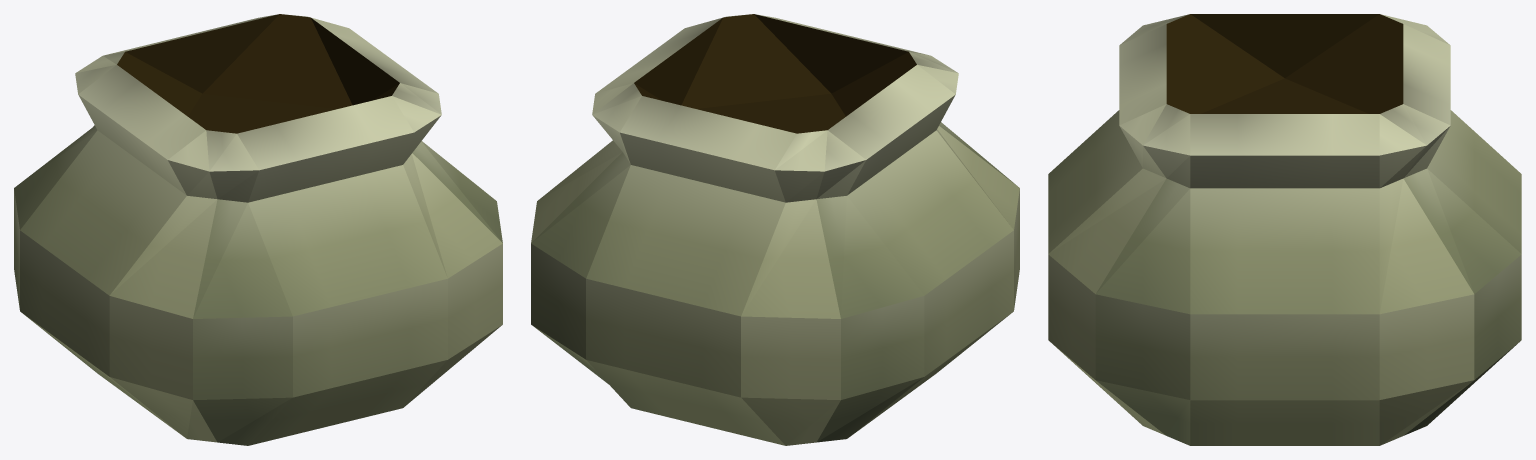
The model's file is pot.obj.
3 views of the same model, side by side, from view 1: azimuth 30°, elevation 25°; view 2: azimuth 150°, elevation 25°; view 3: azimuth 270°, elevation 25° (orthographic). The views are drawn at different scales.
Parts seen in each view (by area): view 1: Default; view 2: Default; view 3: Default.
Part boxes in pixels (bbox=[...]): Default: bbox=[14, 14, 502, 445]; Default: bbox=[531, 14, 1019, 445]; Default: bbox=[1048, 14, 1521, 445].
Size of the model in its own units: 0.625 by 0.4688 by 0.625.
